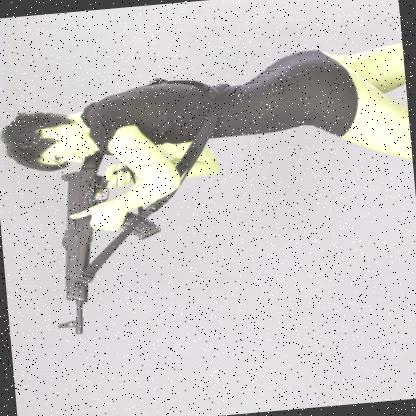rifle: (37, 139, 171, 337)
